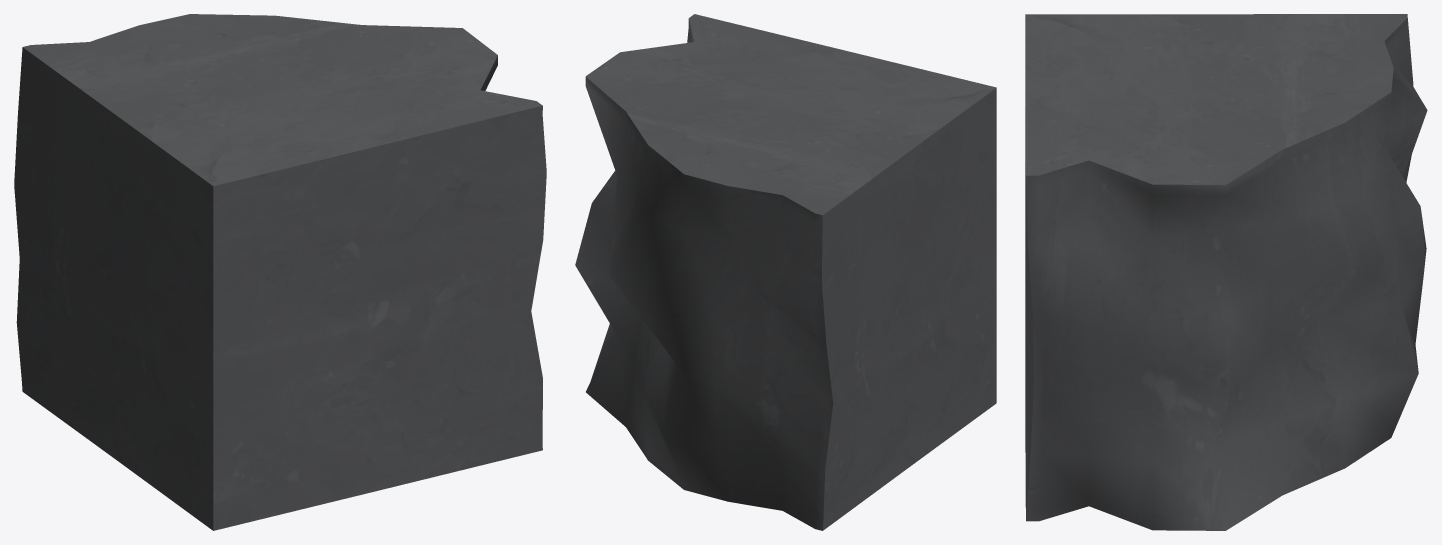
The model's file is StoneEdge.fbx.
3 renders of one model, left to right at view 1: azimuth 30°, elevation 25°; view 2: azimuth 150°, elevation 25°; view 3: azimuth 270°, elevation 25°, orthographic. The views are drawn at different scales.
Visible parts, largest first — view 1: StoneEdge; view 2: StoneEdge; view 3: StoneEdge.
Boxes of the visible parts, box(x1,y1,x2,y2) form: StoneEdge: box(14, 14, 546, 530); StoneEdge: box(575, 14, 996, 530); StoneEdge: box(1025, 14, 1427, 530).
Bounding box in the file's own units: 222 × 200 × 211.
